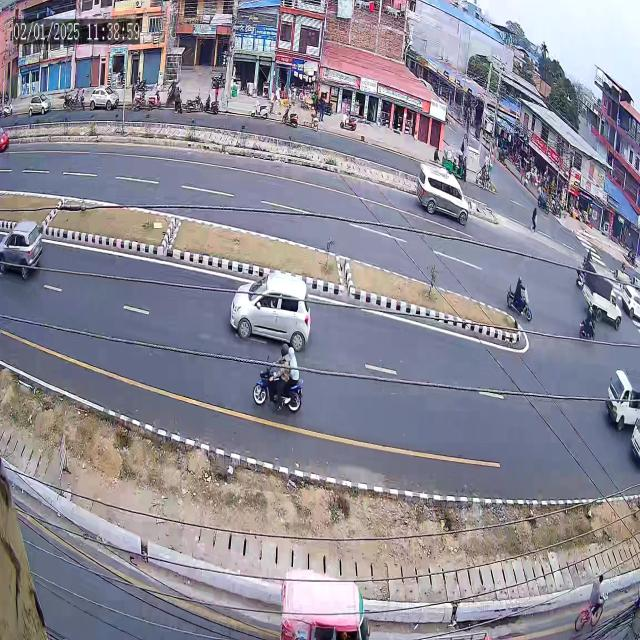car: (226, 245, 314, 360), (0, 202, 54, 294)
motorcycle: (246, 335, 311, 426), (499, 258, 531, 330)
van: (596, 356, 640, 435)
